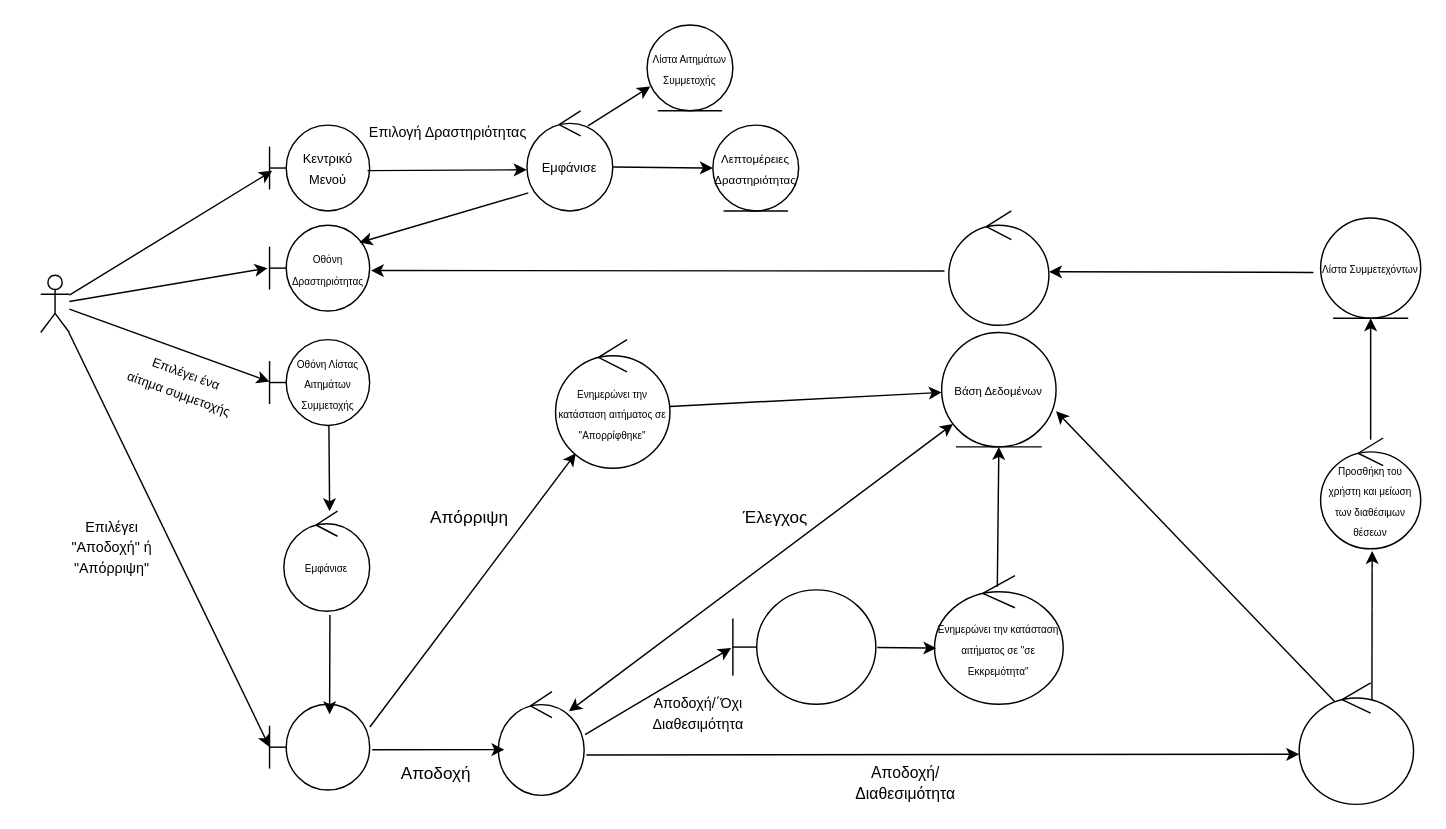
Some shapes in this 1446 by 829 pixel diagram are drawn without their labels. The centre of each missing label's shape, as x and y in pixels:
Έλεγχος Διαθεσιμότητας: pixel 540 742
Διοργανωτής (Χρήστης): pixel 54 303
Ενημερώνει: pixel 998 267
Ενημερώνει την κατάσταση αιτήματος σε "Εγκεκριμένο": pixel 1356 742
Μήνυμα Σφάλματος (Δεν υπάρχουν διαθέσιμες θέσεις για αυτη την δραστηριότητα): pixel 803 646
Οθόνη Επιλογών (Αποδοχή / Απόρριψη): pixel 319 746
